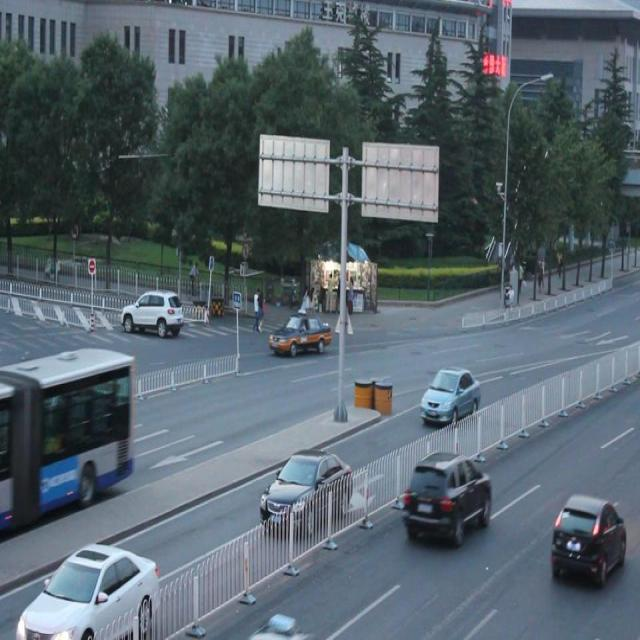car: (17, 541, 160, 640), (404, 450, 492, 544), (260, 448, 352, 535), (549, 490, 627, 586), (420, 365, 478, 426), (270, 312, 333, 358), (123, 289, 181, 337)
van: (0, 342, 134, 523)
